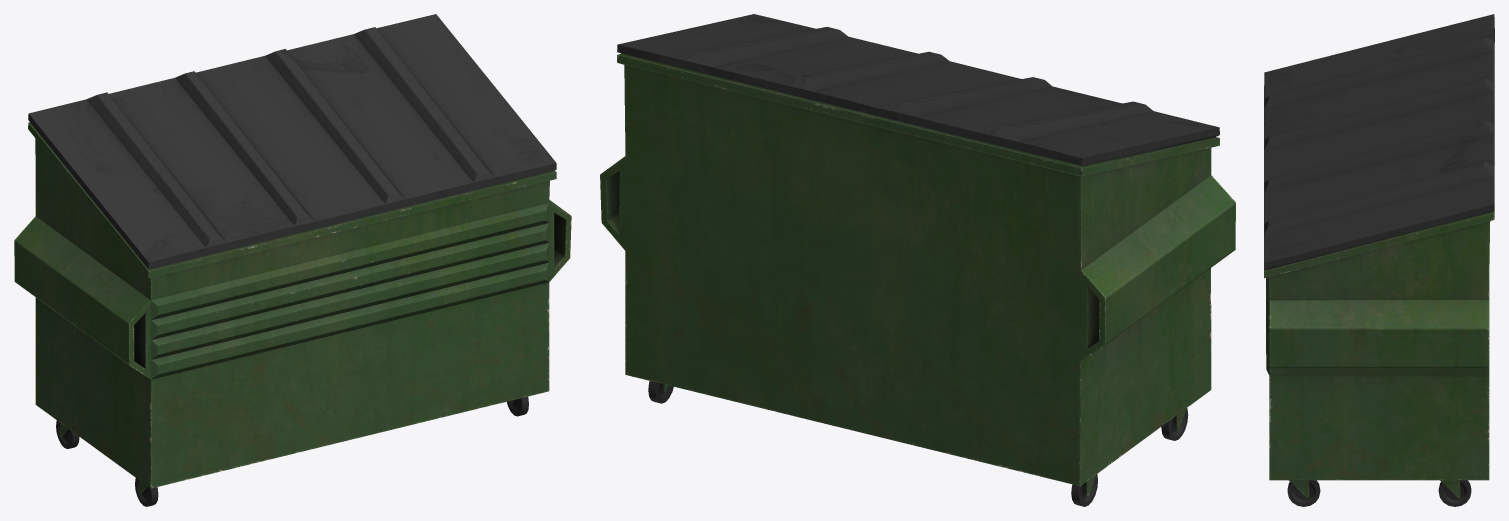
File: DustBin_Large.fbx
The picture shows the model from 3 angles, left to right: view 1: azimuth 30°, elevation 25°; view 2: azimuth 150°, elevation 25°; view 3: azimuth 270°, elevation 25°; orthographic projection. The views are drawn at different scales.
Parts seen in each view (by area): view 1: DustBin-Large; view 2: DustBin-Large; view 3: DustBin-Large.
Part boxes in pixels (x1,y1,x2,y2): DustBin-Large: [14, 14, 571, 506]; DustBin-Large: [600, 14, 1235, 506]; DustBin-Large: [1264, 14, 1494, 506].
Bounding box in the file's own units: 171 × 122 × 80.43.
